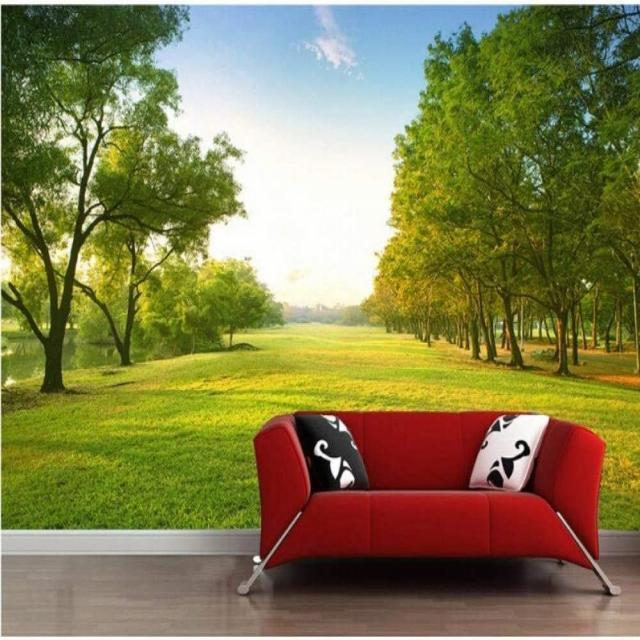tree: (0, 16, 260, 410), (373, 12, 639, 370)
